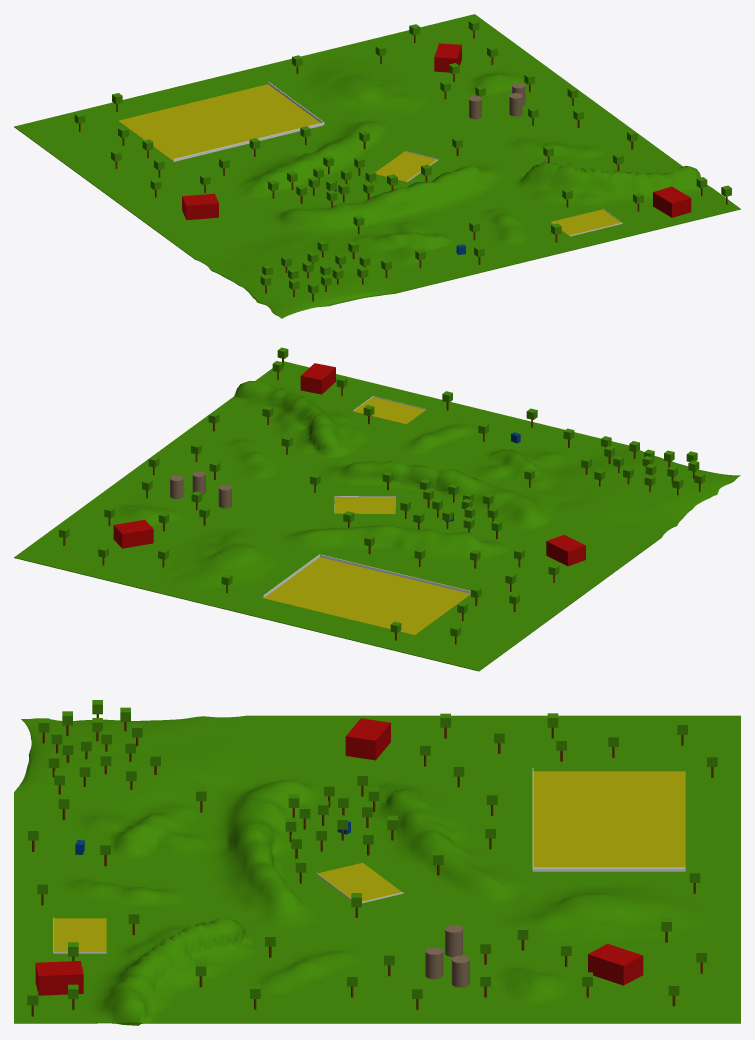
Rendered from Level_Idea3_V02.fbx.
3 renders of one model, top to bottom at view 1: azimuth 30°, elevation 25°; view 2: azimuth 150°, elevation 25°; view 3: azimuth 270°, elevation 25°, orthographic. The views are drawn at different scales.
Parts seen in each view (by area): view 1: Ground, Corn, Corn1 (×2), Barn1, Barn2, Barn; view 2: Ground, Corn, Corn1 (×2), Barn, Barn2, Barn1; view 3: Ground, Corn, Corn1 (×2), Barn, Barn2, Barn1, Fence1, Silo1, Silo, Silo2.
Boxes of the visible parts, left/top/right/bottom form: Ground: left=14, top=14, right=740, bottom=318; Corn: left=118, top=84, right=320, bottom=160; Corn1 (×2): left=375, top=151, right=620, bottom=235; Barn1: left=653, top=186, right=691, bottom=217; Barn2: left=182, top=193, right=218, bottom=220; Barn: left=434, top=43, right=461, bottom=72; Ground: left=14, top=361, right=740, bottom=671; Corn: left=264, top=557, right=470, bottom=635; Corn1 (×2): left=334, top=397, right=425, bottom=513; Barn: left=113, top=519, right=153, bottom=548; Barn2: left=546, top=535, right=585, bottom=566; Barn1: left=300, top=363, right=335, bottom=394; Ground: left=14, top=715, right=740, bottom=1025; Corn: left=533, top=771, right=685, bottom=867; Corn1 (×2): left=53, top=862, right=401, bottom=951; Barn: left=588, top=943, right=643, bottom=985; Barn2: left=345, top=718, right=390, bottom=760; Barn1: left=35, top=961, right=83, bottom=995; Fence1: left=533, top=867, right=685, bottom=871; Silo1: left=451, top=955, right=469, bottom=987; Silo: left=425, top=947, right=443, bottom=979; Silo2: left=445, top=925, right=462, bottom=956.
Size of the model in its own units: 244 by 12.72 by 244.
